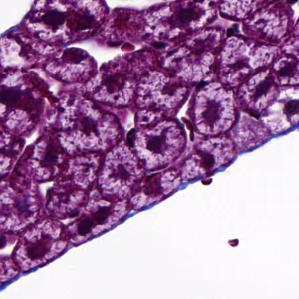inflammation: (57, 103, 124, 156), (131, 118, 186, 168), (192, 83, 237, 136)
